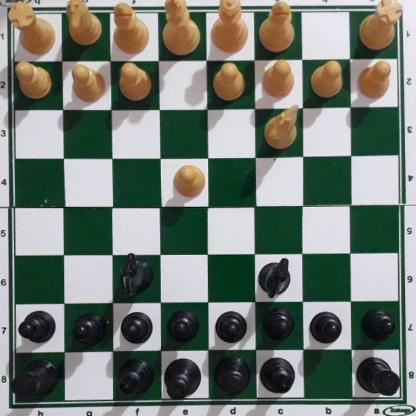black-bishop: (116, 361, 156, 400), (261, 360, 298, 397)
black-king: (164, 358, 205, 403)
black-knight: (120, 255, 153, 299), (260, 261, 292, 300)
black-pawn: (20, 311, 56, 347), (121, 313, 153, 349), (217, 311, 248, 348), (311, 312, 343, 347), (362, 312, 396, 344), (74, 314, 105, 349), (264, 310, 295, 345), (169, 313, 200, 348)
black-queen: (214, 358, 252, 400)
black-rook: (357, 358, 404, 401), (16, 361, 59, 406)
white-bishop: (112, 2, 150, 55), (260, 1, 296, 53)
white-king: (163, 0, 200, 54)
white-knight: (67, 2, 103, 49), (265, 108, 301, 153)
white-pawn: (70, 66, 107, 106), (358, 62, 394, 102), (119, 62, 153, 104), (16, 65, 52, 102), (263, 62, 298, 100), (214, 65, 247, 103), (312, 62, 345, 100), (173, 164, 206, 200)
white-queen: (212, 0, 250, 55)
white-rook: (12, 3, 55, 60), (361, 0, 401, 56)
